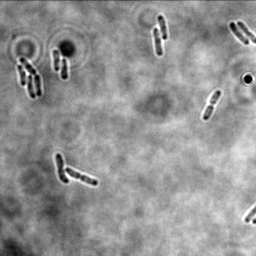Dividing: (65, 166, 99, 187), (201, 89, 222, 122), (54, 152, 70, 185), (236, 20, 255, 44)
Microcolony: (16, 56, 44, 100)
Rod: (229, 21, 250, 45), (151, 25, 164, 58), (157, 13, 170, 40), (59, 57, 70, 81), (51, 48, 61, 73)
